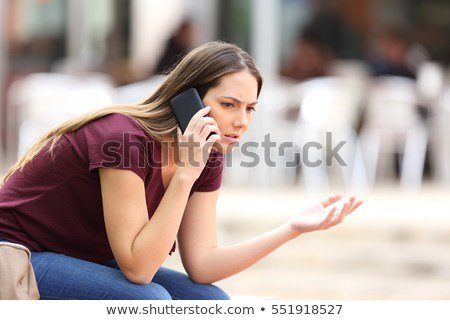phone: (169, 93, 209, 140)
talk: (168, 85, 266, 176)
